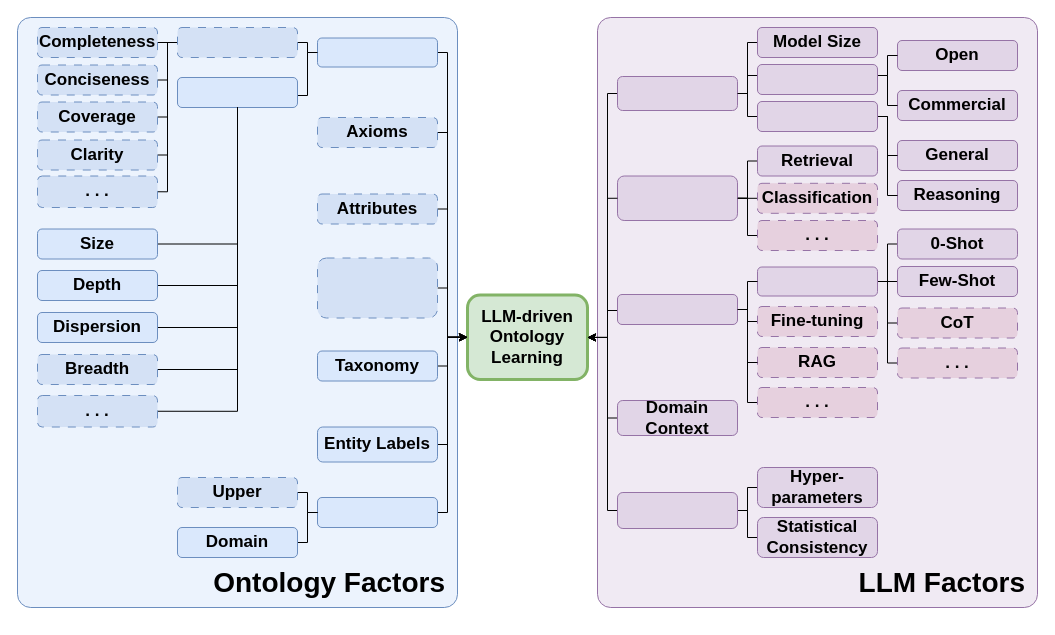
Some shapes in this 1055 by 635 pixel diagram are drawn without their labels. Each missing label, with the centre of its shape:
Approach: the point at 677,309
Availability: the point at 817,79
Choice of LLM: the point at 677,93
Function: the point at 237,42
Metrics: the point at 377,52
Modelling Objective: the point at 677,197
Non-hierarchical Relations: the point at 377,287
Prompting: the point at 817,281
Response Variation: the point at 677,510
Scope: the point at 377,512
Specialization: the point at 817,116
Structure: the point at 237,92
